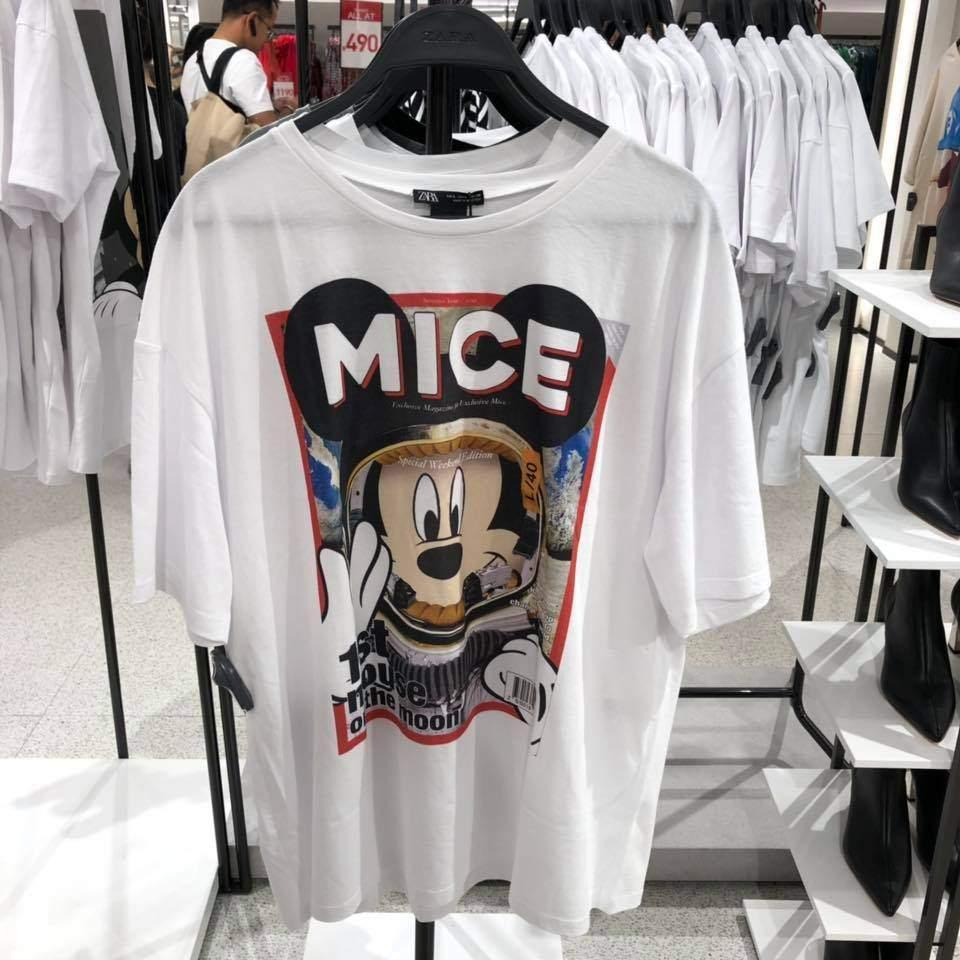Tshirt: (130, 118, 753, 919)
